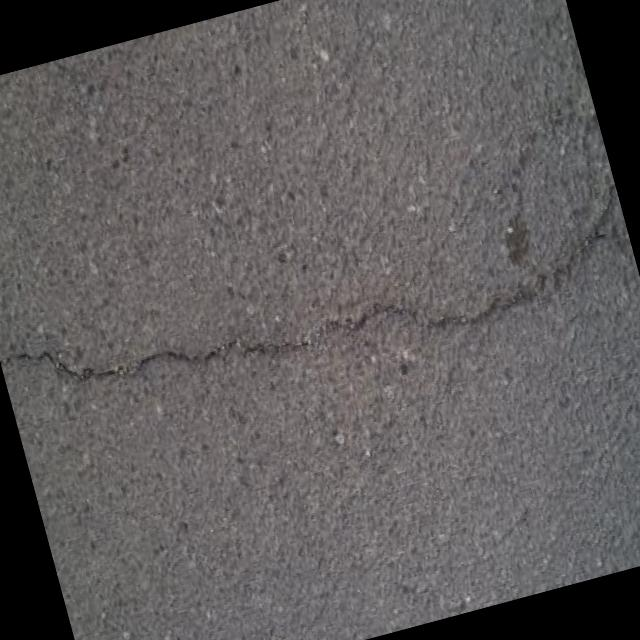Retak-Melintang: (1, 185, 614, 384)
